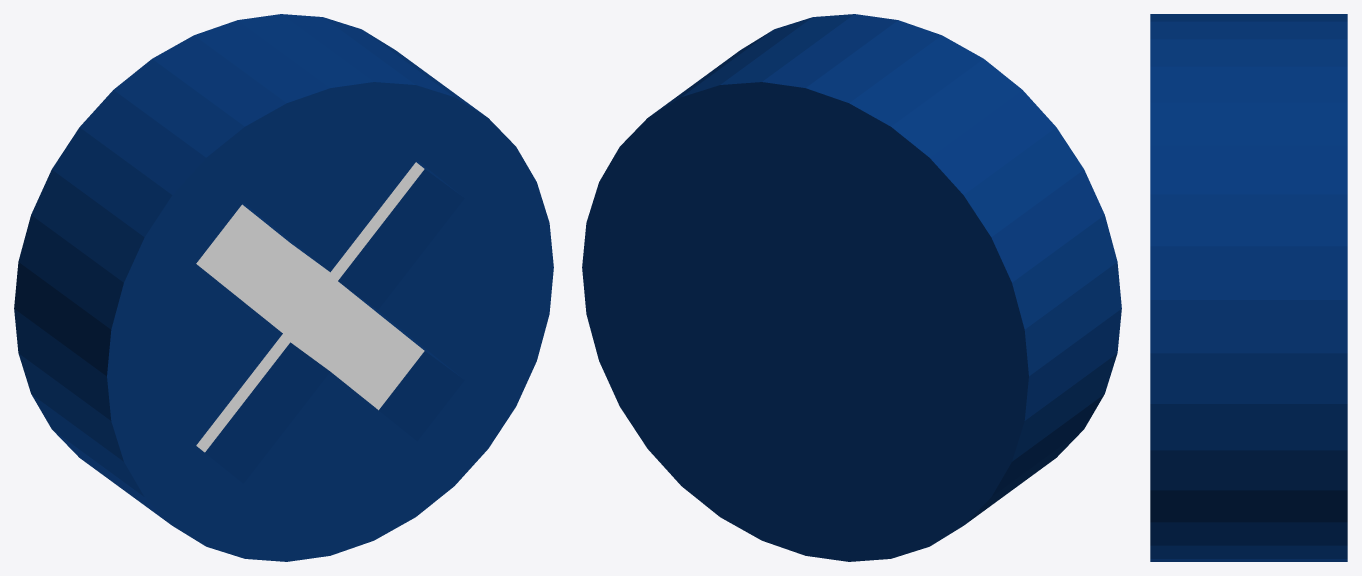
The model's file is closeBlue.gltf.
3 views of the same model, side by side, from view 1: azimuth 30°, elevation 25°; view 2: azimuth 150°, elevation 25°; view 3: azimuth 270°, elevation 25° (orthographic). The views are drawn at different scales.
Visible parts, largest first — view 1: Cylinder, Cube, Cube.001; view 2: Cylinder; view 3: Cylinder.
Part boxes in pixels (x1,y1,x2,y2): Cylinder: (14,14,553,561); Cube: (196,204,424,410); Cube.001: (196,162,424,452); Cylinder: (582,14,1121,561); Cylinder: (1150,14,1347,561).
Bounding box in the file's own units: 2 × 2 × 0.72.
